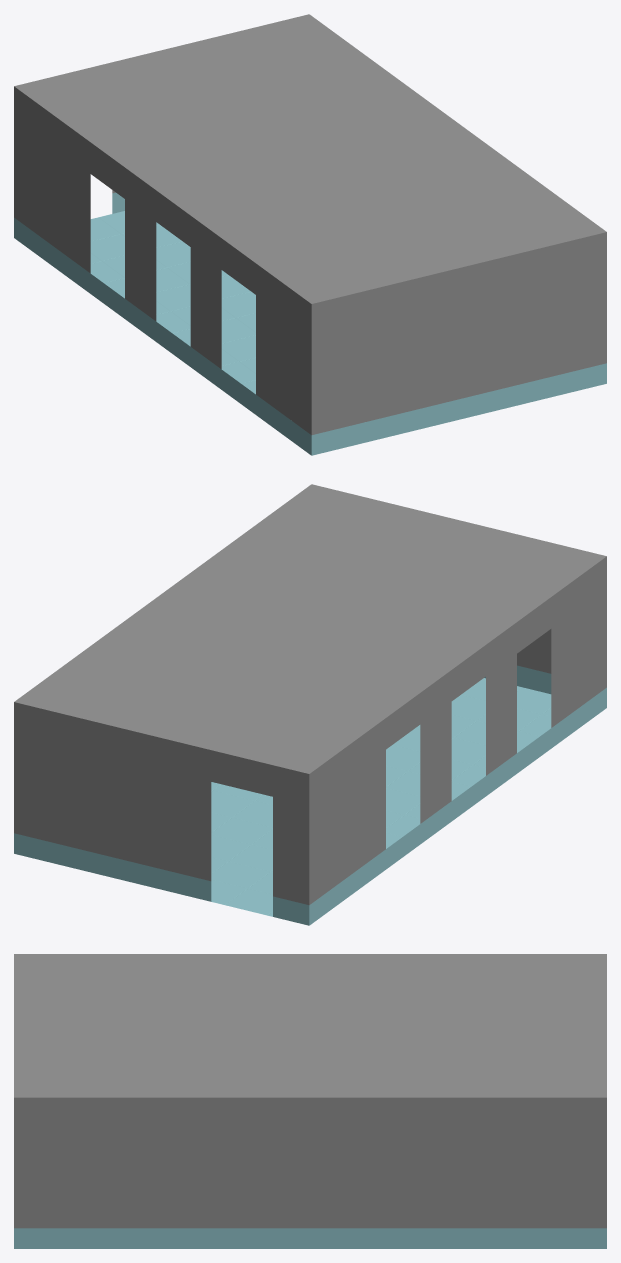
The model's file is HS_I_Inside_model_v1.FBX.
The picture shows the model from 3 angles, top to bottom: view 1: azimuth 30°, elevation 25°; view 2: azimuth 150°, elevation 25°; view 3: azimuth 270°, elevation 25°; orthographic projection.
Visible parts, largest first — view 1: wall_bot00, wall_bot02; view 2: wall_bot00, wall_bot02; view 3: wall_bot00, wall_bot02.
Boxes of the visible parts, x1,y1,x2,y2 form: wall_bot00: (14,14,606,435); wall_bot02: (14,192,606,455); wall_bot00: (14,484,606,905); wall_bot02: (14,665,606,925); wall_bot00: (14,954,606,1228); wall_bot02: (14,1228,606,1248).
Bounding box in the file's own units: 452 × 222 × 788.
